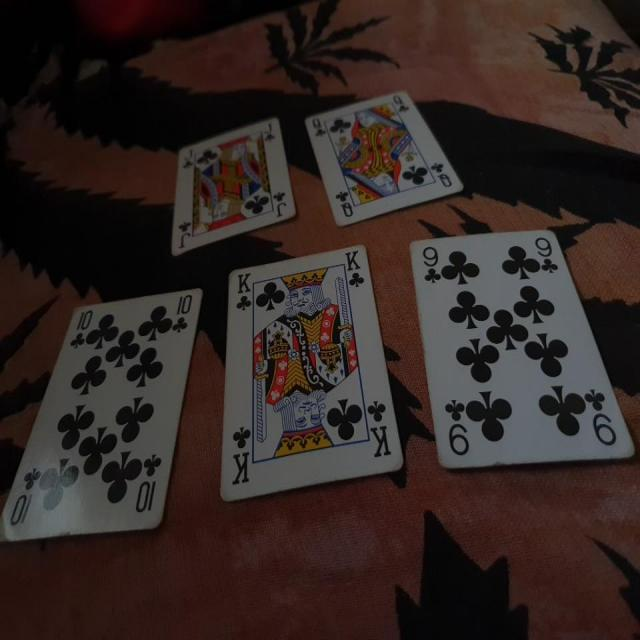10 of clubs: (1, 285, 204, 545)
9 of clubs: (406, 223, 638, 472)
jack of clubs: (171, 114, 299, 262)
king of clubs: (218, 243, 406, 504)
queen of clubs: (303, 90, 462, 229)
